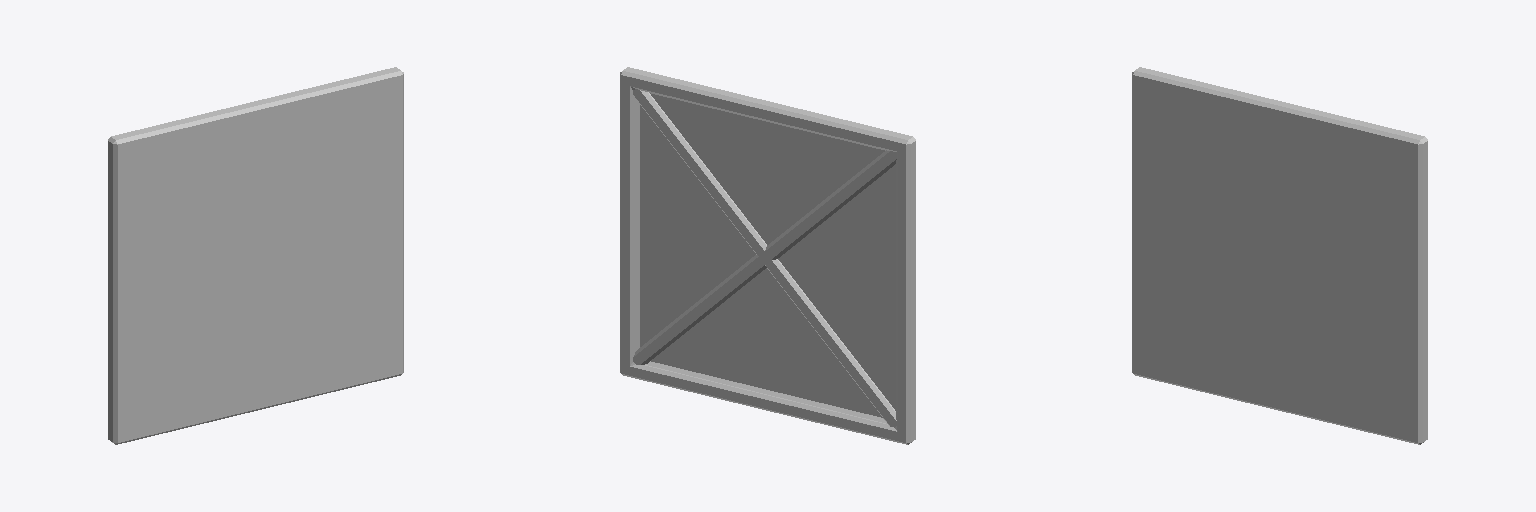
File: panel_2x2_v1.obj
3 views of the same model, side by side, from view 1: azimuth 30°, elevation 25°; view 2: azimuth 150°, elevation 25°; view 3: azimuth 330°, elevation 25° (orthographic).
Parts seen in each view (by area): view 1: 2x2_black_geo.003; view 2: 2x2_black_geo.003; view 3: 2x2_black_geo.003.
Part boxes in pixels (bbox=[...]): 2x2_black_geo.003: bbox=[108, 67, 403, 444]; 2x2_black_geo.003: bbox=[620, 67, 915, 444]; 2x2_black_geo.003: bbox=[1132, 67, 1427, 444].
Size of the model in its own units: 1.98 by 1.98 by 0.1.